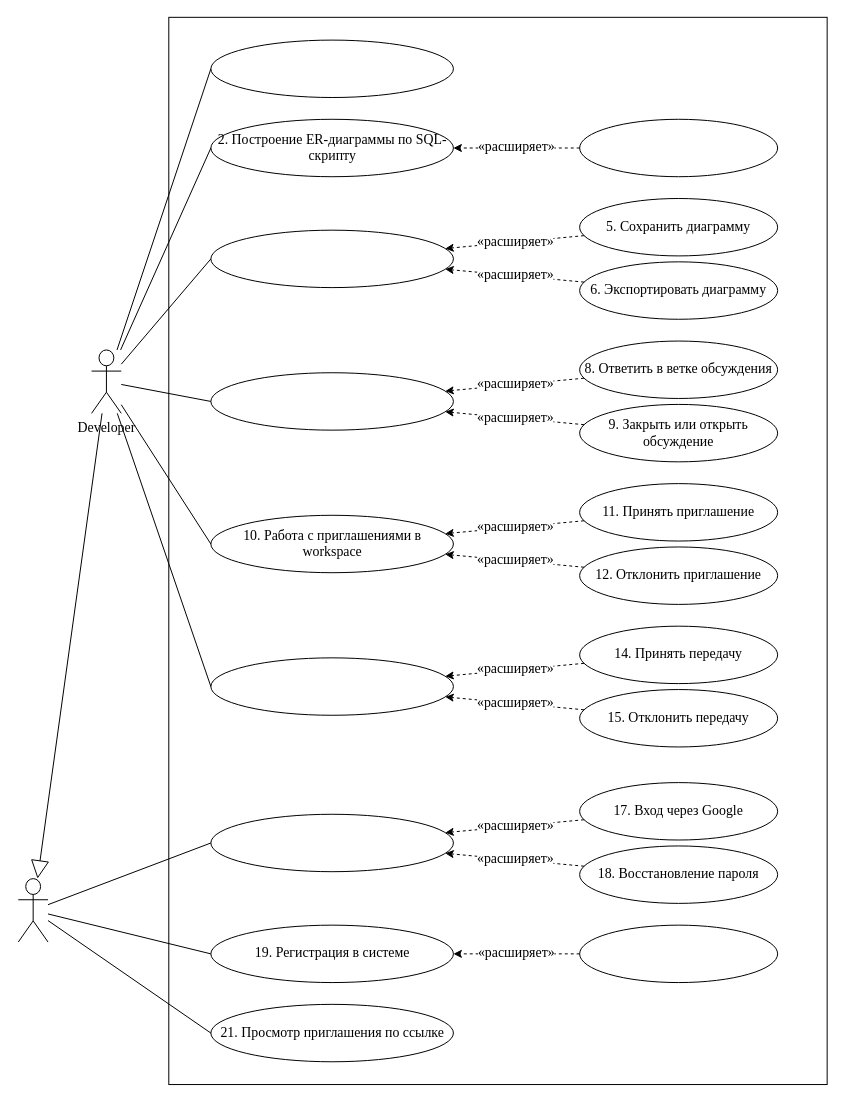
Some shapes in this 844 by 1102 pixel diagram are drawn without their labels. The centre of each missing label's shape, as x and y in pixels:
"1. Просмотр проектов и диаграмм" belongs at (x=331, y=68).
"13. Ответ на передачу владения workspace" belongs at (x=331, y=686).
"16. Авторизация" belongs at (x=331, y=842).
"20. Регистрация по ссылке-приглашению" belongs at (x=678, y=953).
"3. Проверить модель диаграммы" belongs at (x=678, y=147).
"4. Совместное редактирование ER-диаграммы" belongs at (x=331, y=258).
"7. Комментирование таблиц диаграммы" belongs at (x=331, y=401).
"Гость" belongs at (x=32, y=910).
